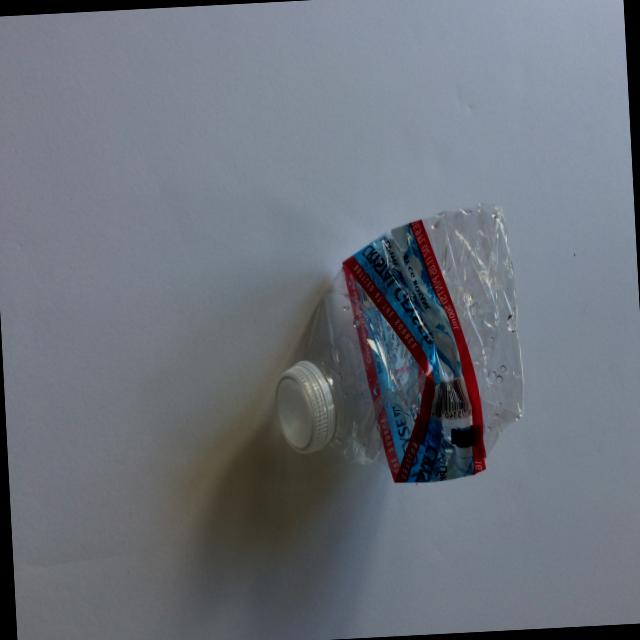Plastic: (230, 186, 552, 534)
